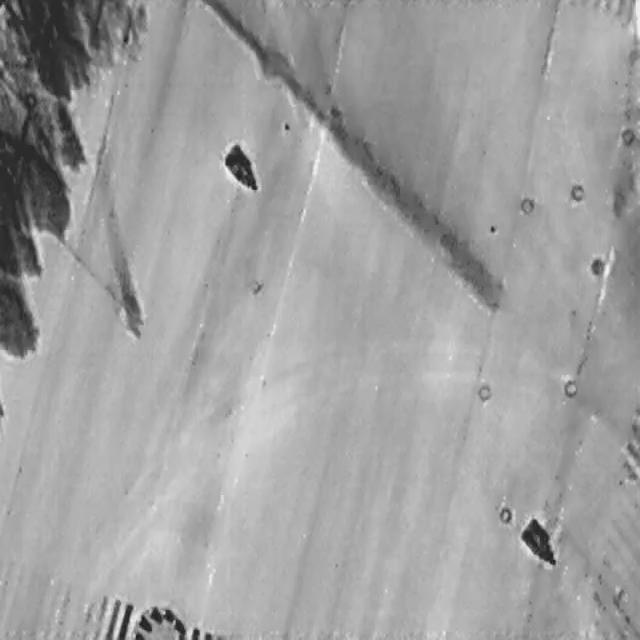Bicycle: (512, 510, 567, 578), (219, 138, 265, 198)
